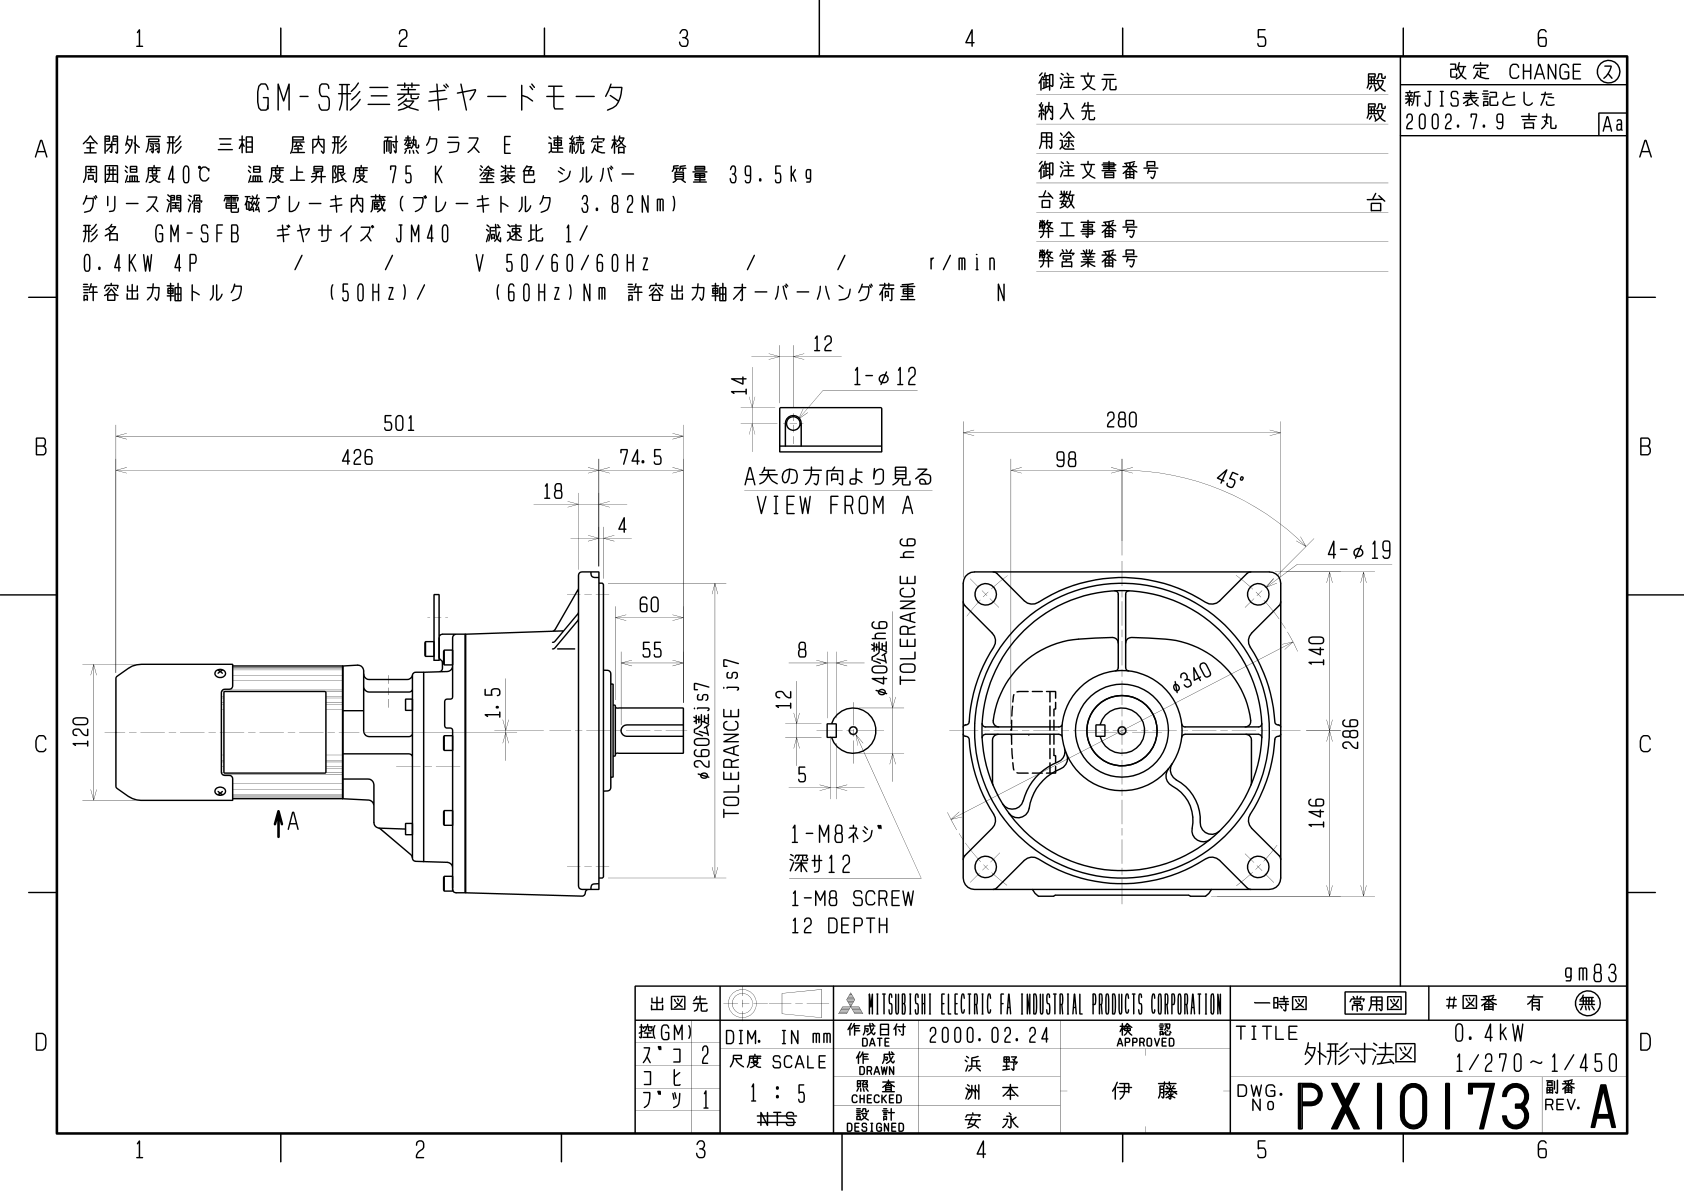GM_S_屋内＿三相_フランジ: (63, 311, 1397, 959)
